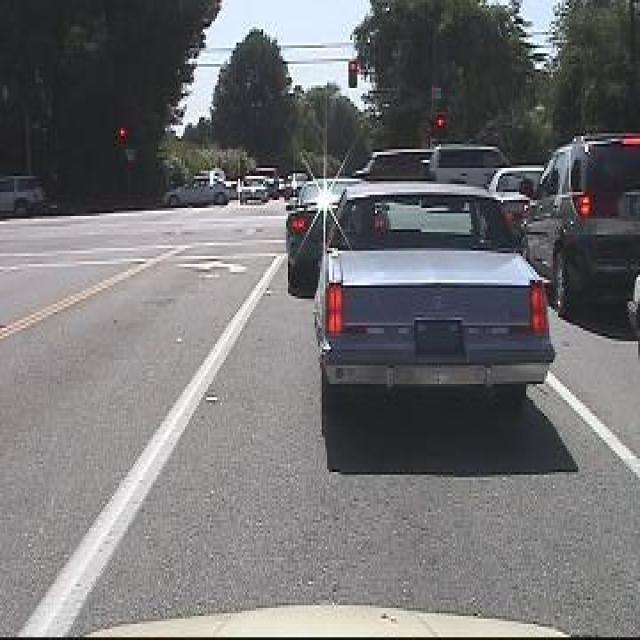car_back: (311, 177, 564, 432), (521, 135, 640, 313)
